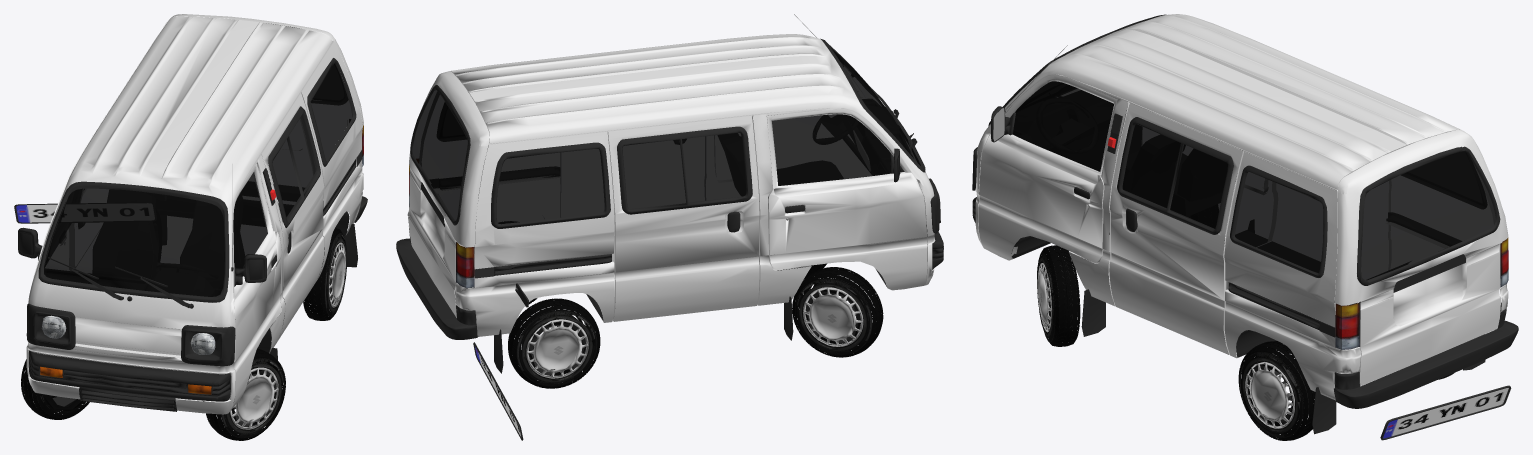
File: suzuki_carry_van.glb
3 renders of one model, left to right at view 1: azimuth 30°, elevation 25°; view 2: azimuth 150°, elevation 25°; view 3: azimuth 270°, elevation 25°, orthographic. The views are drawn at different scales.
Visible parts, largest first — view 1: 3DSMeshMatrix (×17); view 2: 3DSMeshMatrix (×13); view 3: 3DSMeshMatrix (×16).
Boxes of the visible parts, box(x1,y1,x2,y2) form: 3DSMeshMatrix (×17): box(14, 14, 367, 440); 3DSMeshMatrix (×13): box(396, 34, 943, 440); 3DSMeshMatrix (×16): box(972, 14, 1518, 440).
Size of the model in its own units: 311 by 202 by 310.
Materials: 16 (5 with a texture image).
